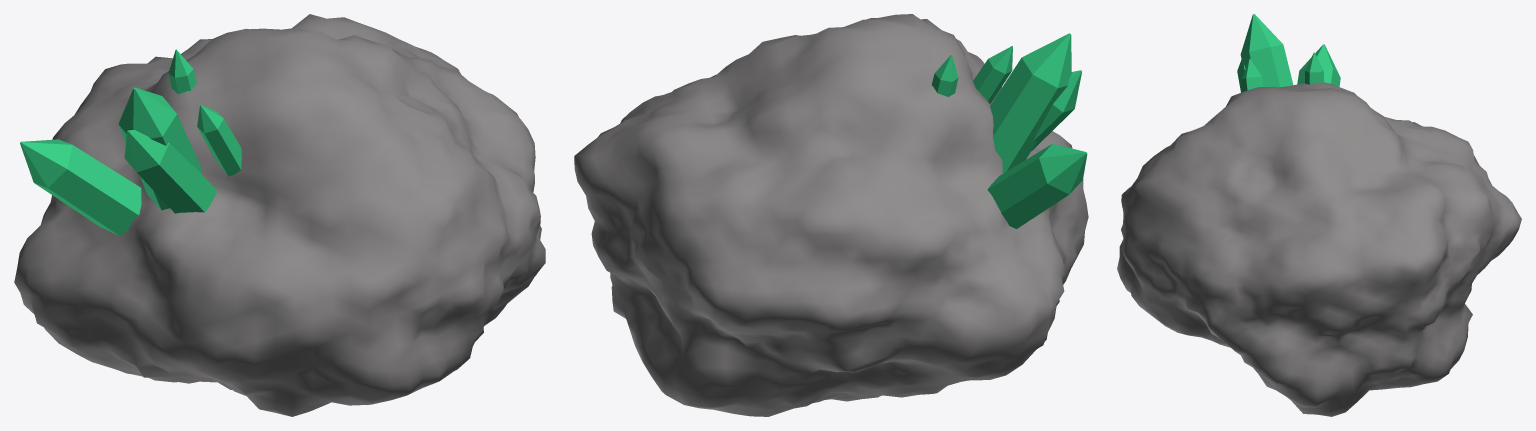
Rendered from emerald_surface.glb.
3 views of the same model, side by side, from view 1: azimuth 30°, elevation 25°; view 2: azimuth 150°, elevation 25°; view 3: azimuth 270°, elevation 25° (orthographic). The views are drawn at different scales.
Parts seen in each view (by area): view 1: emerald_surface; view 2: emerald_surface; view 3: emerald_surface.
Part boxes in pixels (left/top/right/bottom): emerald_surface: left=14, top=14, right=545, bottom=416; emerald_surface: left=574, top=14, right=1088, bottom=416; emerald_surface: left=1117, top=14, right=1521, bottom=416.
Bounding box in the file's own units: 1.17 × 0.8907 × 1.15.
